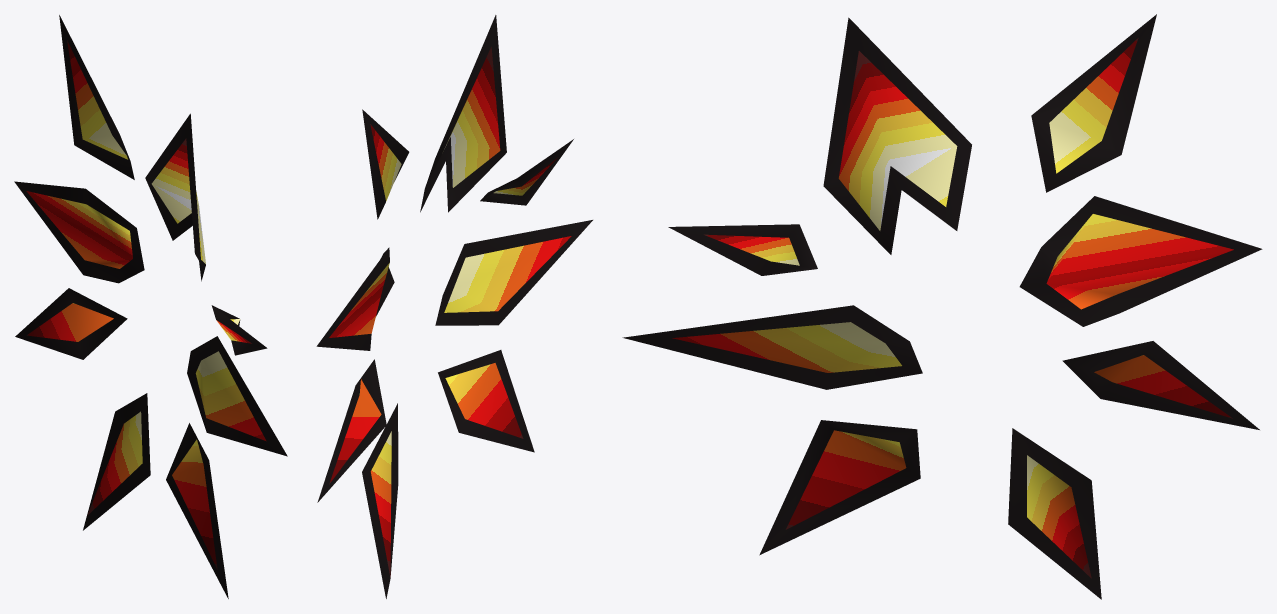
The model's file is boom3.obj.
The picture shows the model from 3 angles, left to right: view 1: azimuth 30°, elevation 25°; view 2: azimuth 150°, elevation 25°; view 3: azimuth 270°, elevation 25°; orthographic projection. The views are drawn at different scales.
Parts seen in each view (by area): view 1: boom3; view 2: boom3; view 3: boom3.
Boxes of the visible parts, x1=… form: boom3: x1=14, y1=15, x2=287, y2=598; boom3: x1=316, y1=15, x2=592, y2=598; boom3: x1=622, y1=14, x2=1262, y2=599.
Bounding box in the file's own units: 5.74 × 94.67 × 93.8.
Materials: 1 (1 with a texture image).
